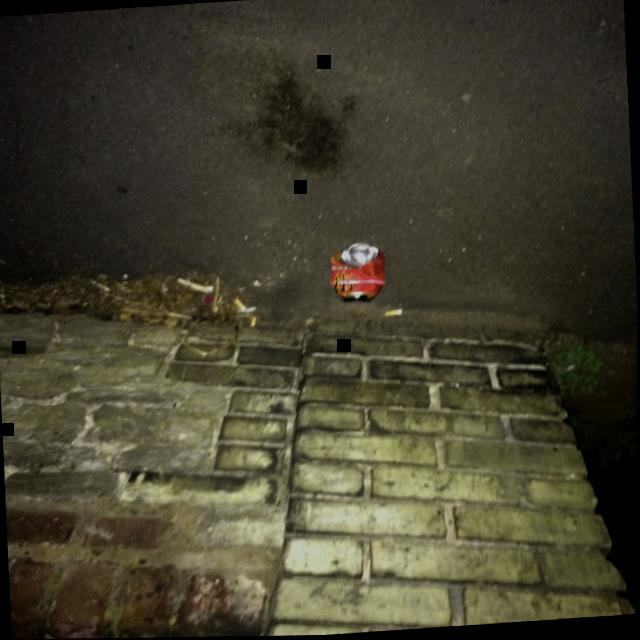Cigarette: (234, 299, 247, 311), (385, 310, 402, 317)
Drink can: (331, 244, 385, 303)
